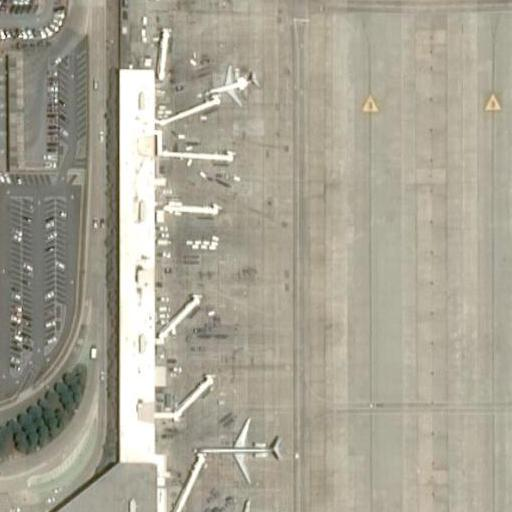Aircraft: (197, 417, 285, 480), (208, 66, 260, 105), (212, 502, 293, 512)
